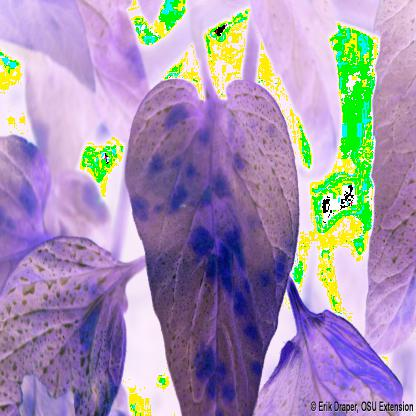tomato mold leaf: (123, 64, 295, 416)
